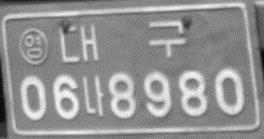0: (214, 66, 245, 117), (19, 75, 48, 121)
6: (52, 71, 82, 120)
8: (178, 70, 209, 117), (107, 73, 138, 119)
9: (141, 70, 172, 119)
나: (81, 74, 105, 118)
대구_D: (58, 17, 187, 66)
영: (16, 26, 50, 66)
